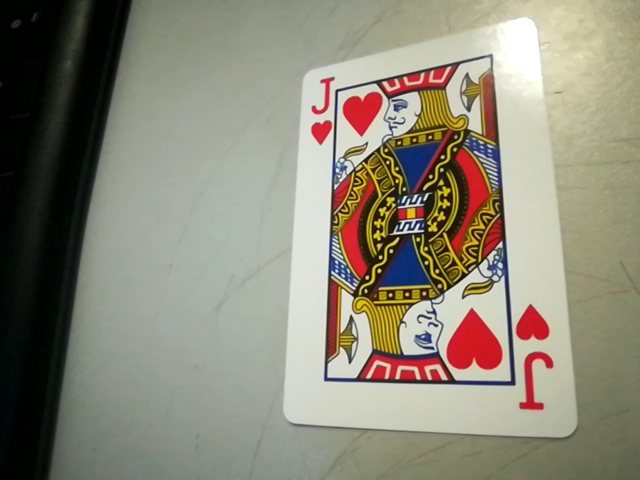hx j: (506, 301, 567, 420)
